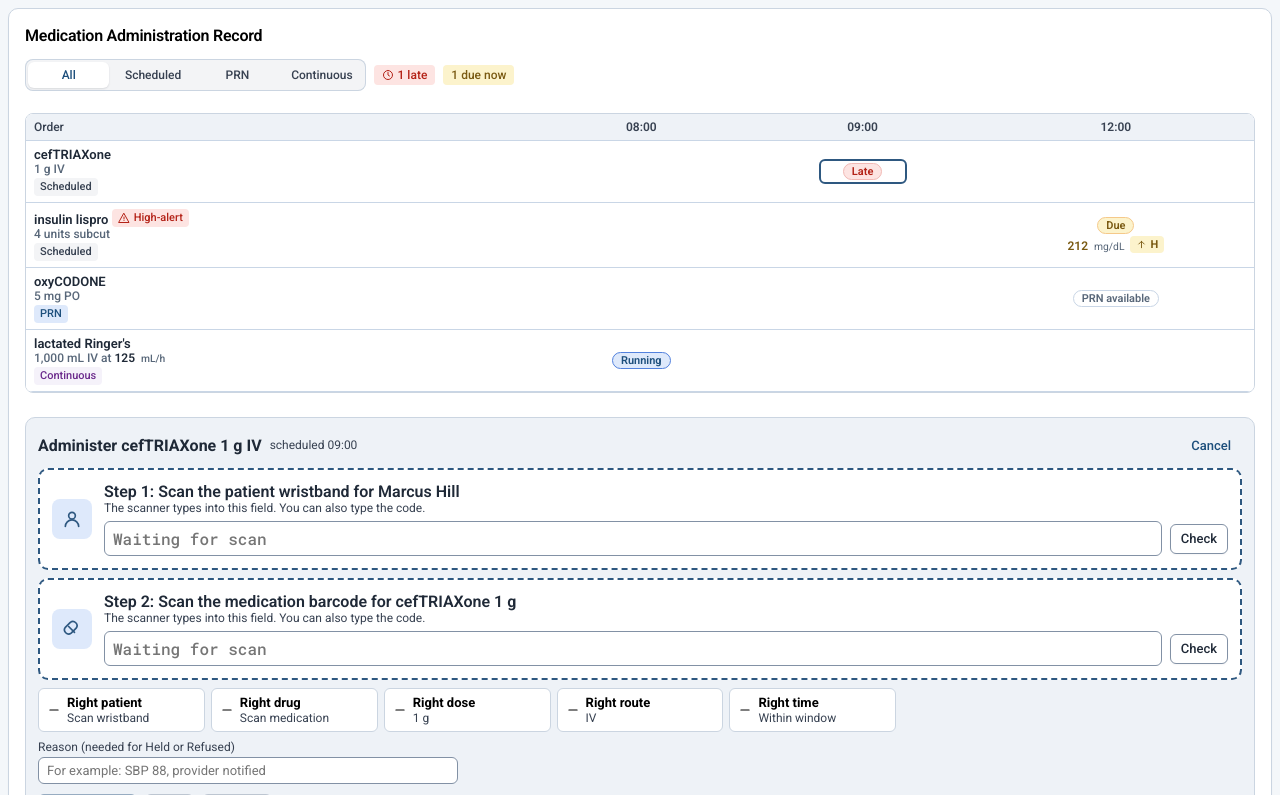
Test: MAR › cancels the panel
The image size is (1280, 795).
Click the button "Cancel" at x=1211, y=445, box [1180, 430, 1242, 460]
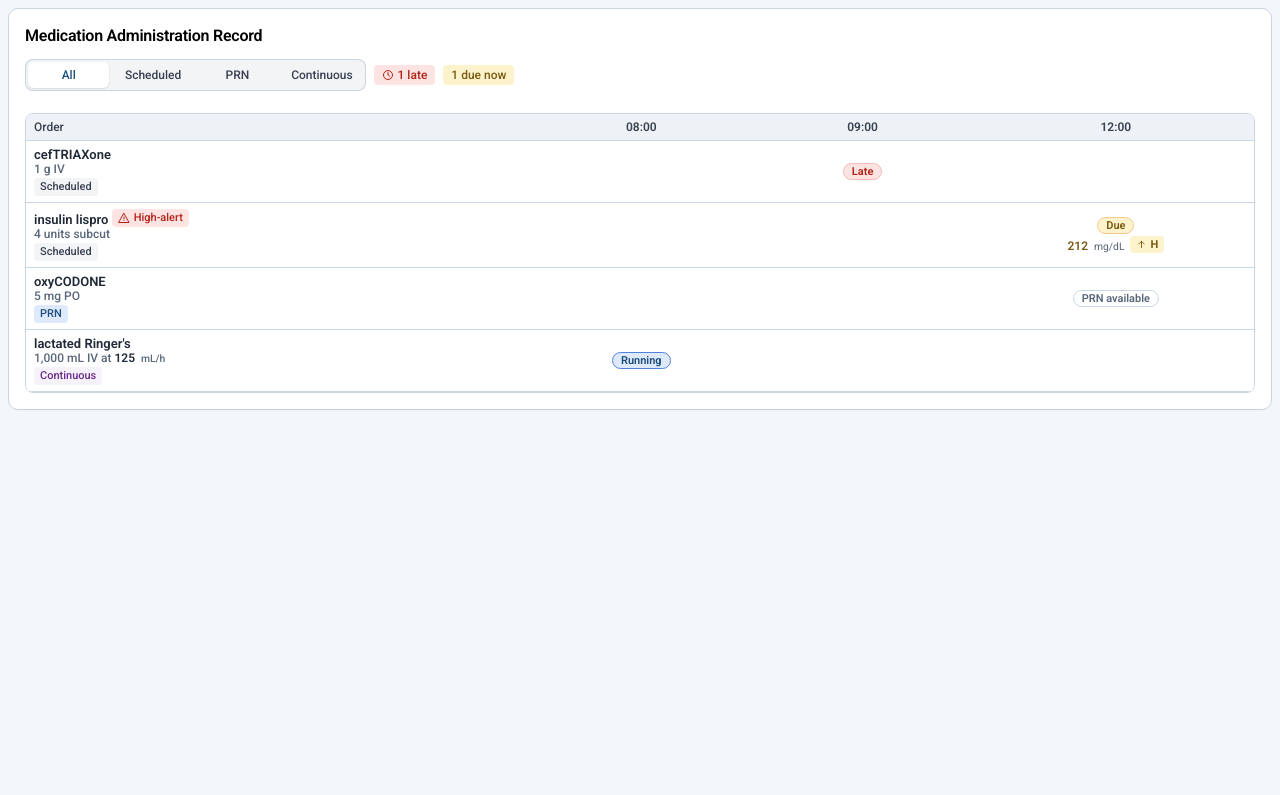
expect the text "Administer" is gone: met
